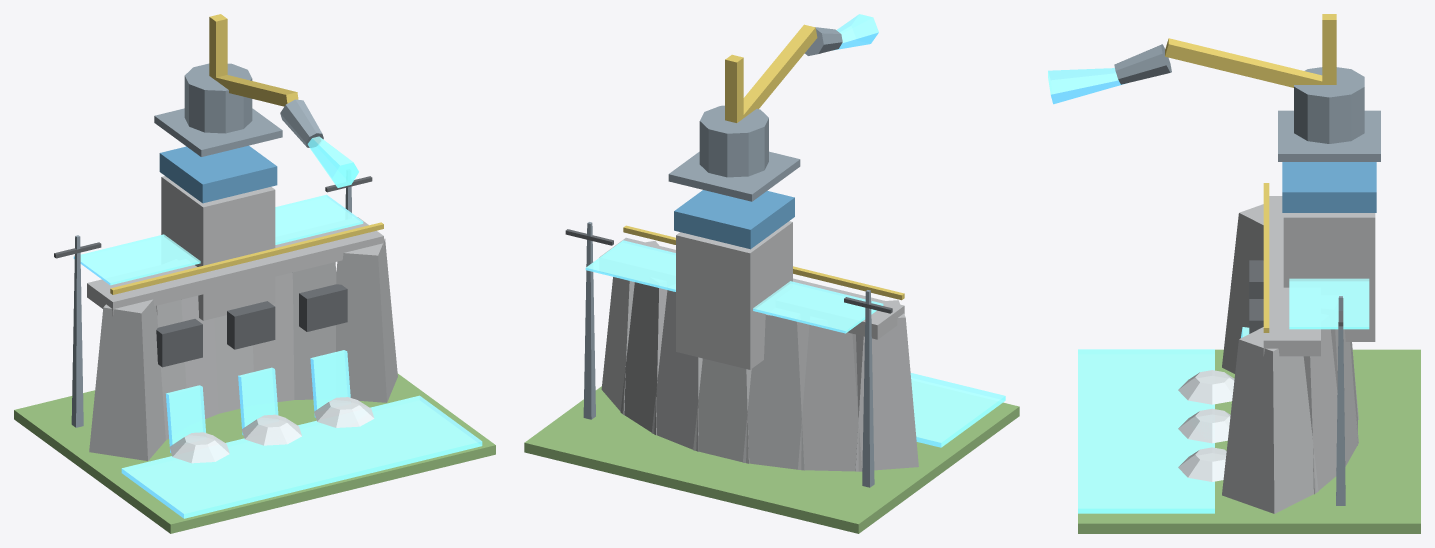
The model's file is P3_HydroDamFortress.glb.
The picture shows the model from 3 angles, left to right: view 1: azimuth 30°, elevation 25°; view 2: azimuth 150°, elevation 25°; view 3: azimuth 270°, elevation 25°; orthographic projection. The views are drawn at different scales.
Visible parts, largest first — view 1: P3_HydroDamFortress; view 2: P3_HydroDamFortress; view 3: P3_HydroDamFortress.
Boxes of the visible parts, <box> form: P3_HydroDamFortress: <box>14,14,495,533</box>; P3_HydroDamFortress: <box>524,14,1019,533</box>; P3_HydroDamFortress: <box>1048,14,1420,533</box>.
Size of the model in its own units: 7.2 by 8.9 by 6.52.
